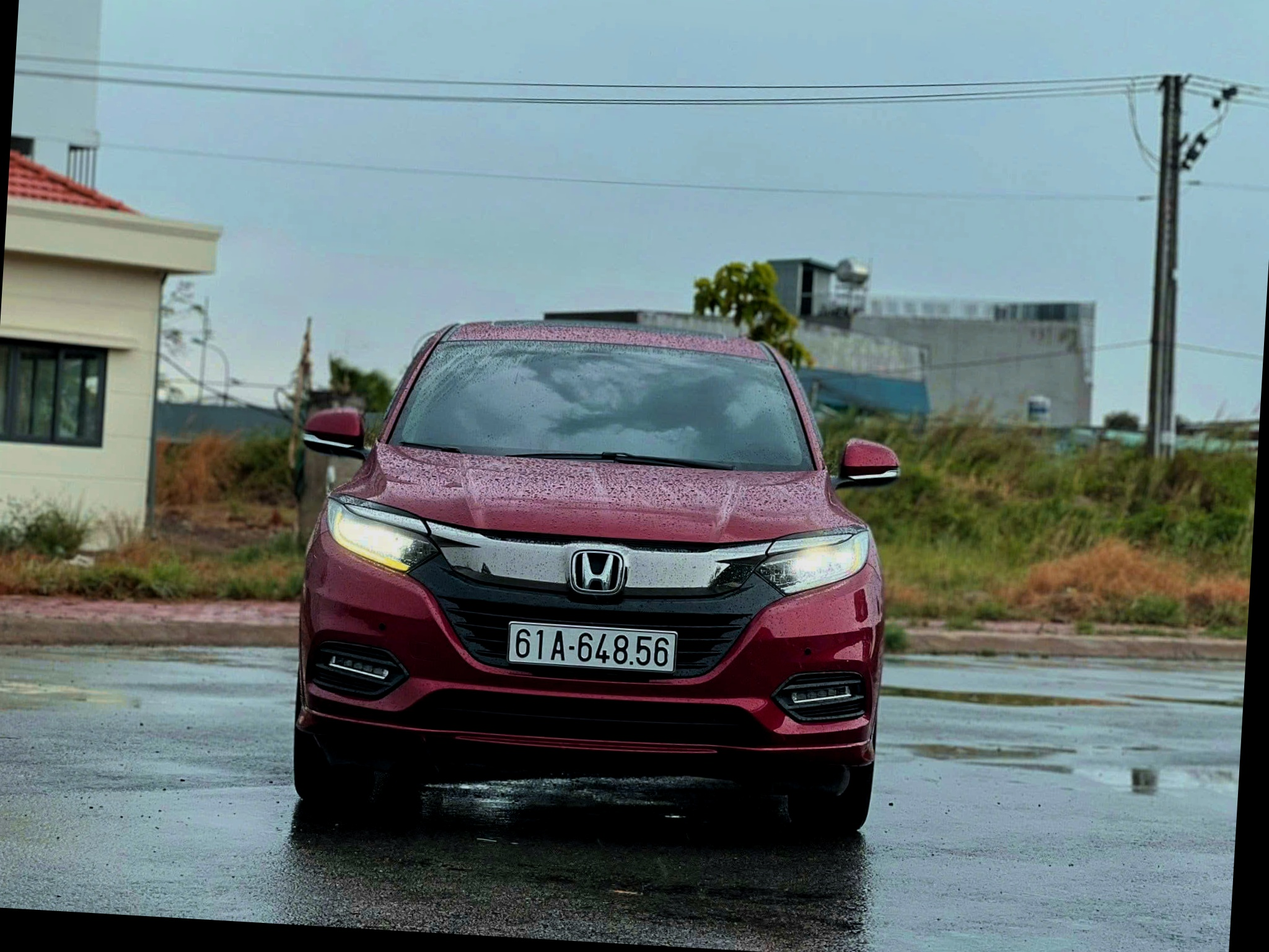Bien-so: (517, 642, 697, 696)
